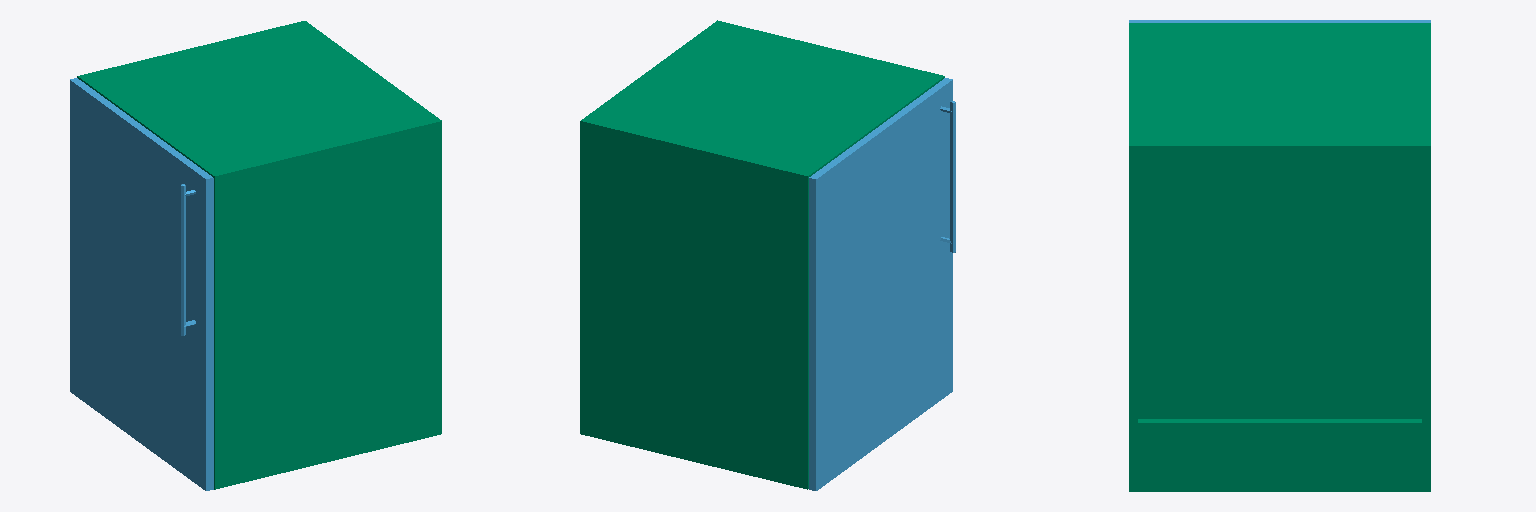
The robot description file, URDF, robot "partnet_c3881ea3a2cc38af4c3aee8e9d3a6ffa":
<?xml version="1.0" ?>
<robot name="partnet_c3881ea3a2cc38af4c3aee8e9d3a6ffa">
	<link name="base"/>
	    <contact>
      		<lateral_friction value="1.0"/>
      		<rolling_friction value="1"/>
      		<inertia_scaling value="3.0"/>
	    </contact>
	    <inertial>
	      <origin xyz="0. 0. 0." />
	      <mass value="100000000000" />
	      <inertia ixx="0.001" ixy="0.0" ixz="0.0" iyy="0.001" iyz="0.0" izz="0.001" />
	    </inertial>
	<link name="link_0">
	    <contact>
      		<lateral_friction value="1.0"/>
      		<rolling_friction value="1"/>
      		<inertia_scaling value="3.0"/>
	    </contact>
	    <inertial>
	      <origin xyz="0. 0. 0." />
	      <mass value="10000" />
	      <inertia ixx="0.001" ixy="0.0" ixz="0.0" iyy="0.001" iyz="0.0" izz="0.001" />
	    </inertial>
		<visual name="cabinet_door_surface-4">
			<origin xyz="0.5432251031371544 -0.7125070095062256 -0.5096246924915964"/>
			<geometry>
				<mesh filename="textured_objs/original-20.obj"/>
			</geometry>
		</visual>
		<visual name="handle-5">
			<origin xyz="0.5432251031371544 -0.7125070095062256 -0.5096246924915964"/>
			<geometry>
				<mesh filename="textured_objs/original-24.obj"/>
			</geometry>
		</visual>
		<visual name="handle-5">
			<origin xyz="0.5432251031371544 -0.7125070095062256 -0.5096246924915964"/>
			<geometry>
				<mesh filename="textured_objs/original-22.obj"/>
			</geometry>
		</visual>
		<visual name="handle-5">
			<origin xyz="0.5432251031371544 -0.7125070095062256 -0.5096246924915964"/>
			<geometry>
				<mesh filename="textured_objs/original-23.obj"/>
			</geometry>
		</visual>
		<collision>
			<origin xyz="0.5432251031371544 -0.7125070095062256 -0.5096246924915964"/>
			<geometry>
				<mesh filename="textured_objs/original-20.obj"/>
			</geometry>
		</collision>
		<collision>
			<origin xyz="0.5432251031371544 -0.7125070095062256 -0.5096246924915964"/>
			<geometry>
				<mesh filename="textured_objs/original-24.obj"/>
			</geometry>
		</collision>
		<collision>
			<origin xyz="0.5432251031371544 -0.7125070095062256 -0.5096246924915964"/>
			<geometry>
				<mesh filename="textured_objs/original-22.obj"/>
			</geometry>
		</collision>
		<collision>
			<origin xyz="0.5432251031371544 -0.7125070095062256 -0.5096246924915964"/>
			<geometry>
				<mesh filename="textured_objs/original-23.obj"/>
			</geometry>
		</collision>
	</link>
	<joint name="joint_0" type="revolute">
		<origin xyz="-0.5432251031371544 0.7125070095062256 0.5096246924915964"/>
		<axis xyz="0 -1 0"/>
		<child link="link_0"/>
		<parent link="link_1"/>
		<limit lower="-0.0" upper="3.141592653589793"/>
	</joint>
	<link name="link_1">
		<visual name="shelf-11">
			<origin xyz="0 0 0"/>
			<geometry>
				<mesh filename="textured_objs/original-18.obj"/>
			</geometry>
		</visual>
		<visual name="vertical_side_panel-6">
			<origin xyz="0 0 0"/>
			<geometry>
				<mesh filename="textured_objs/original-6.obj"/>
			</geometry>
		</visual>
		<visual name="vertical_side_panel-6">
			<origin xyz="0 0 0"/>
			<geometry>
				<mesh filename="textured_objs/original-7.obj"/>
			</geometry>
		</visual>
		<visual name="vertical_side_panel-7">
			<origin xyz="0 0 0"/>
			<geometry>
				<mesh filename="textured_objs/original-4.obj"/>
			</geometry>
		</visual>
		<visual name="vertical_side_panel-7">
			<origin xyz="0 0 0"/>
			<geometry>
				<mesh filename="textured_objs/original-3.obj"/>
			</geometry>
		</visual>
		<visual name="back_panel-8">
			<origin xyz="0 0 0"/>
			<geometry>
				<mesh filename="textured_objs/original-15.obj"/>
			</geometry>
		</visual>
		<visual name="bottom_panel-9">
			<origin xyz="0 0 0"/>
			<geometry>
				<mesh filename="textured_objs/original-10.obj"/>
			</geometry>
		</visual>
		<visual name="bottom_panel-9">
			<origin xyz="0 0 0"/>
			<geometry>
				<mesh filename="textured_objs/original-9.obj"/>
			</geometry>
		</visual>
		<visual name="top_panel-10">
			<origin xyz="0 0 0"/>
			<geometry>
				<mesh filename="textured_objs/original-12.obj"/>
			</geometry>
		</visual>
		<visual name="top_panel-10">
			<origin xyz="0 0 0"/>
			<geometry>
				<mesh filename="textured_objs/original-13.obj"/>
			</geometry>
		</visual>
		<visual name="frame_horizontal_bar-12">
			<origin xyz="0 0 0"/>
			<geometry>
				<mesh filename="textured_objs/original-16.obj"/>
			</geometry>
		</visual>
		<visual name="frame_horizontal_bar-13">
			<origin xyz="0 0 0"/>
			<geometry>
				<mesh filename="textured_objs/original-14.obj"/>
			</geometry>
		</visual>
		<collision>
			<origin xyz="0 0 0"/>
			<geometry>
				<mesh filename="textured_objs/original-18.obj"/>
			</geometry>
		</collision>
		<collision>
			<origin xyz="0 0 0"/>
			<geometry>
				<mesh filename="textured_objs/original-6.obj"/>
			</geometry>
		</collision>
		<collision>
			<origin xyz="0 0 0"/>
			<geometry>
				<mesh filename="textured_objs/original-7.obj"/>
			</geometry>
		</collision>
		<collision>
			<origin xyz="0 0 0"/>
			<geometry>
				<mesh filename="textured_objs/original-4.obj"/>
			</geometry>
		</collision>
		<collision>
			<origin xyz="0 0 0"/>
			<geometry>
				<mesh filename="textured_objs/original-3.obj"/>
			</geometry>
		</collision>
		<collision>
			<origin xyz="0 0 0"/>
			<geometry>
				<mesh filename="textured_objs/original-15.obj"/>
			</geometry>
		</collision>
		<collision>
			<origin xyz="0 0 0"/>
			<geometry>
				<mesh filename="textured_objs/original-10.obj"/>
			</geometry>
		</collision>
		<collision>
			<origin xyz="0 0 0"/>
			<geometry>
				<mesh filename="textured_objs/original-9.obj"/>
			</geometry>
		</collision>
		<collision>
			<origin xyz="0 0 0"/>
			<geometry>
				<mesh filename="textured_objs/original-12.obj"/>
			</geometry>
		</collision>
		<collision>
			<origin xyz="0 0 0"/>
			<geometry>
				<mesh filename="textured_objs/original-13.obj"/>
			</geometry>
		</collision>
		<collision>
			<origin xyz="0 0 0"/>
			<geometry>
				<mesh filename="textured_objs/original-16.obj"/>
			</geometry>
		</collision>
		<collision>
			<origin xyz="0 0 0"/>
			<geometry>
				<mesh filename="textured_objs/original-14.obj"/>
			</geometry>
		</collision>
	</link>
	<joint name="joint_1" type="fixed">
		<origin rpy="1.570796326794897 0 -1.570796326794897" xyz="0 0 0"/>
		<child link="link_1"/>
		<parent link="base"/>
	</joint>
</robot>

--- Facts derived from the render (not from the file) ---
3 views of the same robot in one strip: view 1: azimuth 30°, elevation 25°; view 2: azimuth 150°, elevation 25°; view 3: azimuth 270°, elevation 25° (orthographic).
Robot: partnet_c3881ea3a2cc38af4c3aee8e9d3a6ffa — 3 links, 2 joints (1 revolute, 1 fixed); root link base; default pose: all joints at 0.
Links seen in each view (by area): view 1: link_1, link_0; view 2: link_1, link_0; view 3: link_1, link_0.
Link boxes in pixels (x1=…): link_1: x1=77, y1=21, x2=441, y2=489; link_0: x1=70, y1=78, x2=213, y2=490; link_1: x1=580, y1=20, x2=944, y2=489; link_0: x1=809, y1=78, x2=955, y2=490; link_1: x1=1129, y1=23, x2=1430, y2=491; link_0: x1=1129, y1=20, x2=1430, y2=22.
Size in the robot's own frame: 1.16 by 1.11 by 1.39 metres.
Meshes: 16 distinct files referenced, 16 mesh visuals loaded (16 OBJ).